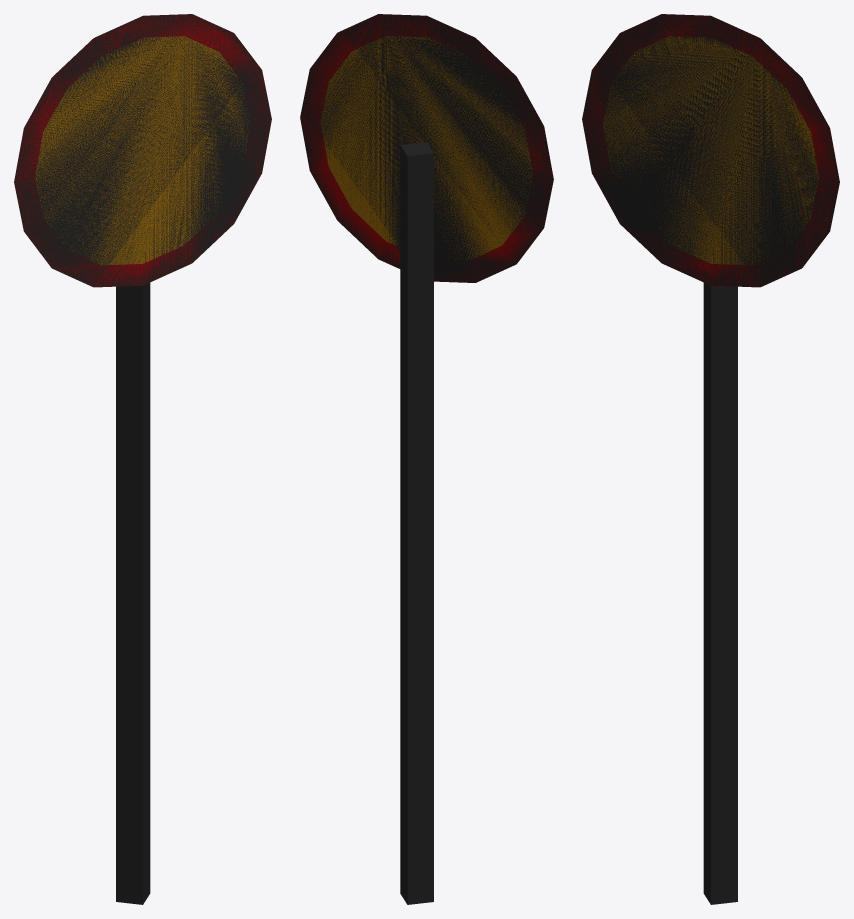
File: warningsign.obj
The picture shows the model from 3 angles, left to right: view 1: azimuth 30°, elevation 25°; view 2: azimuth 150°, elevation 25°; view 3: azimuth 330°, elevation 25°; orthographic projection.
Parts seen in each view (by area): view 1: Cylinder.001; view 2: Cylinder.001; view 3: Cylinder.001.
Part boxes in pixels (left/top/right/bottom): Cylinder.001: left=14, top=14, right=271, bottom=904; Cylinder.001: left=300, top=14, right=553, bottom=904; Cylinder.001: left=582, top=14, right=839, bottom=904.
Size of the model in its own units: 0.8957 by 2.95 by 0.1189.
